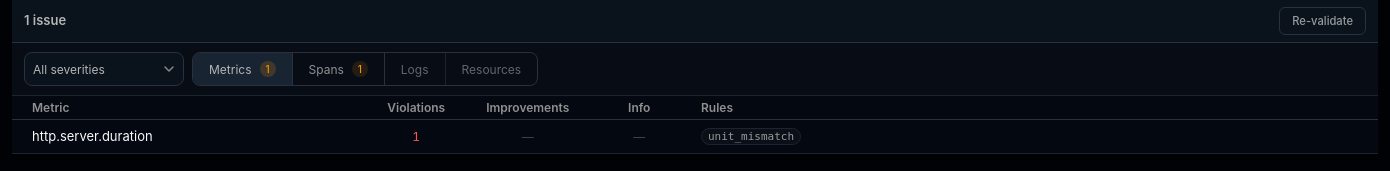
Test case: FindingsTab › shows per-tab counts for the currently filtered rows and keeps span rows reachable
Select "Information" in the dropdown named "Filter by severity". click: (104, 69)
box: [24,52,184,86]
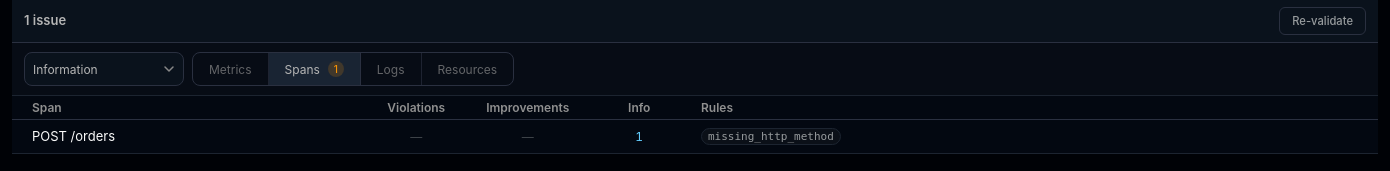
Expected: the text with class "findings-tab__signal-count" reads "1", [334,63,338,75]
Expected: the text with class "findings-tab__count--violation" reads "—", [410,129,422,144]
Expected: the text with class "findings-tab__count--information" reads "1", [635,129,643,144]
